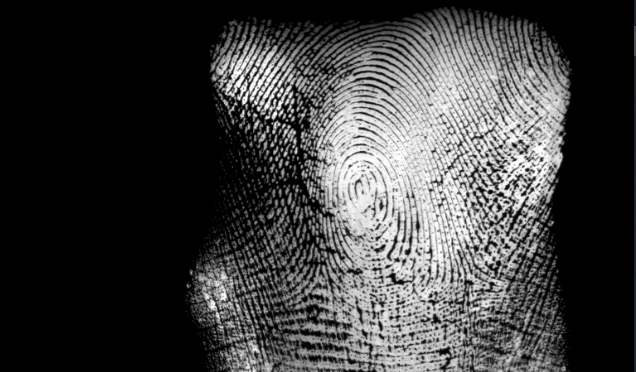nucelo: (348, 172, 372, 215)
verticilo: (301, 261, 333, 299), (453, 266, 489, 292)
